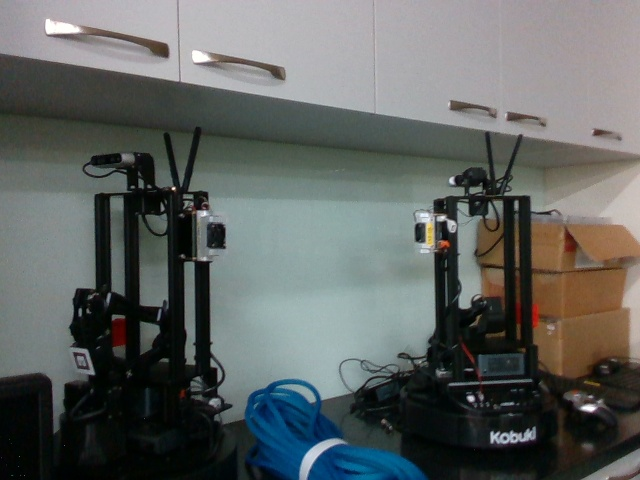rope: (240, 375, 434, 480)
